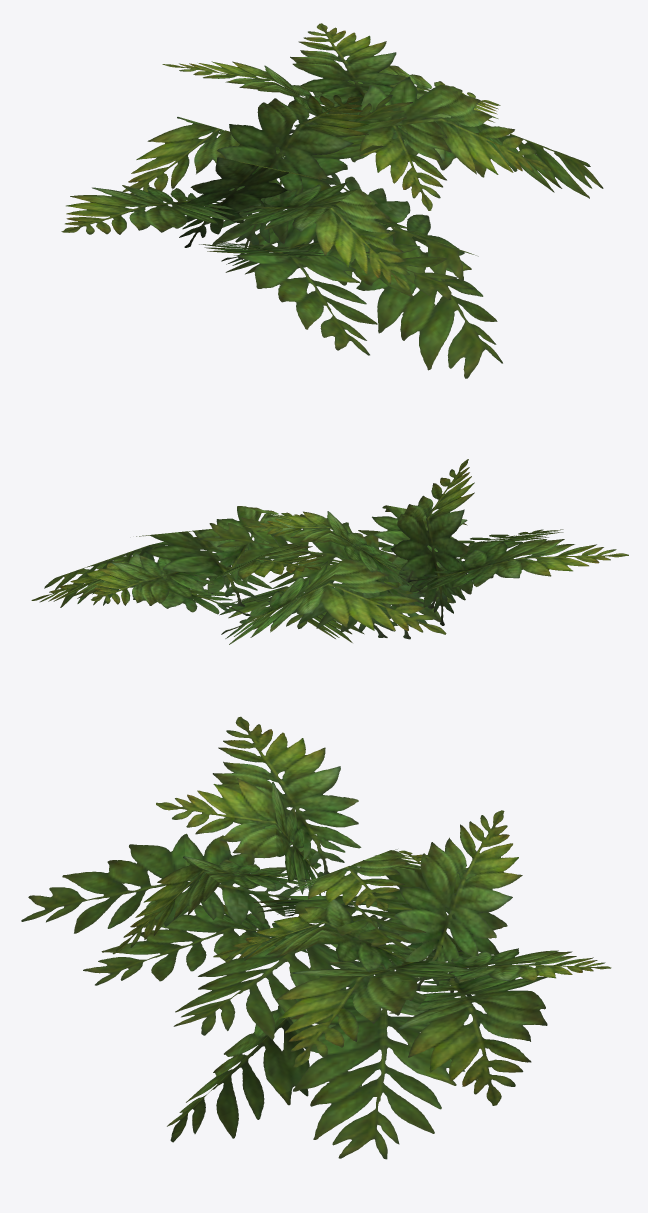
File: S_Tree_Green039_A1.FBX
3 views of the same model, one above another, from view 1: azimuth 30°, elevation 25°; view 2: azimuth 150°, elevation 25°; view 3: azimuth 270°, elevation 25° (orthographic). The views are drawn at different scales.
Visible parts, largest first — view 1: S_Tree_Green039_A1; view 2: S_Tree_Green039_A1; view 3: S_Tree_Green039_A1.
Boxes of the visible parts, left/top/right/bottom form: S_Tree_Green039_A1: left=61, top=23, right=603, bottom=378; S_Tree_Green039_A1: left=31, top=459, right=628, bottom=644; S_Tree_Green039_A1: left=21, top=716, right=611, bottom=1159.
Size of the model in its own units: 170 by 73.12 by 140.
